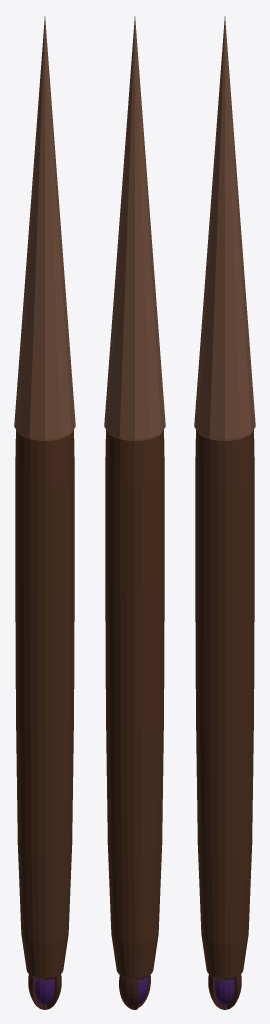
Rendered from Wand 27.glb.
3 renders of one model, left to right at view 1: azimuth 90°, elevation 25°; view 2: azimuth 150°, elevation 25°; view 3: azimuth 270°, elevation 25°, orthographic.
Visible parts, largest first — view 1: GeneratedWand; view 2: GeneratedWand; view 3: GeneratedWand.
Boxes of the visible parts, x1,y1,x2,y2 form: GeneratedWand: [14, 16, 75, 1009]; GeneratedWand: [104, 16, 165, 1009]; GeneratedWand: [194, 16, 255, 1009].
Size of the model in its own units: 0.0282 by 0.5028 by 0.0282.
